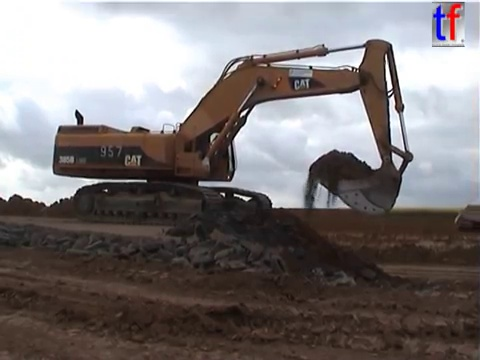excavator: (49, 36, 417, 230)
truck: (451, 202, 480, 233)
